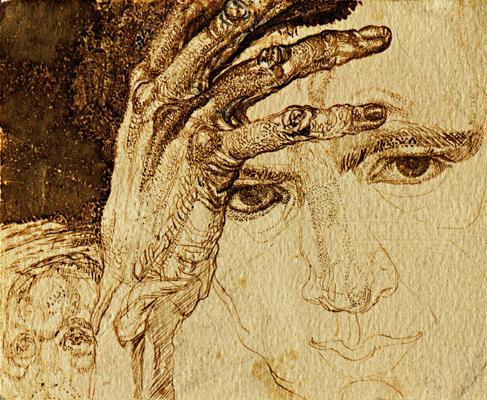person: (96, 1, 487, 400), (1, 253, 104, 400)
